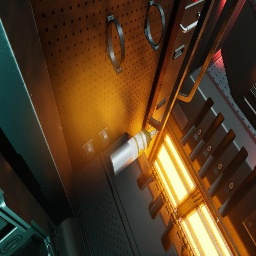0: (108, 129, 156, 178)
FireAlarm ,: (191, 0, 199, 2)
